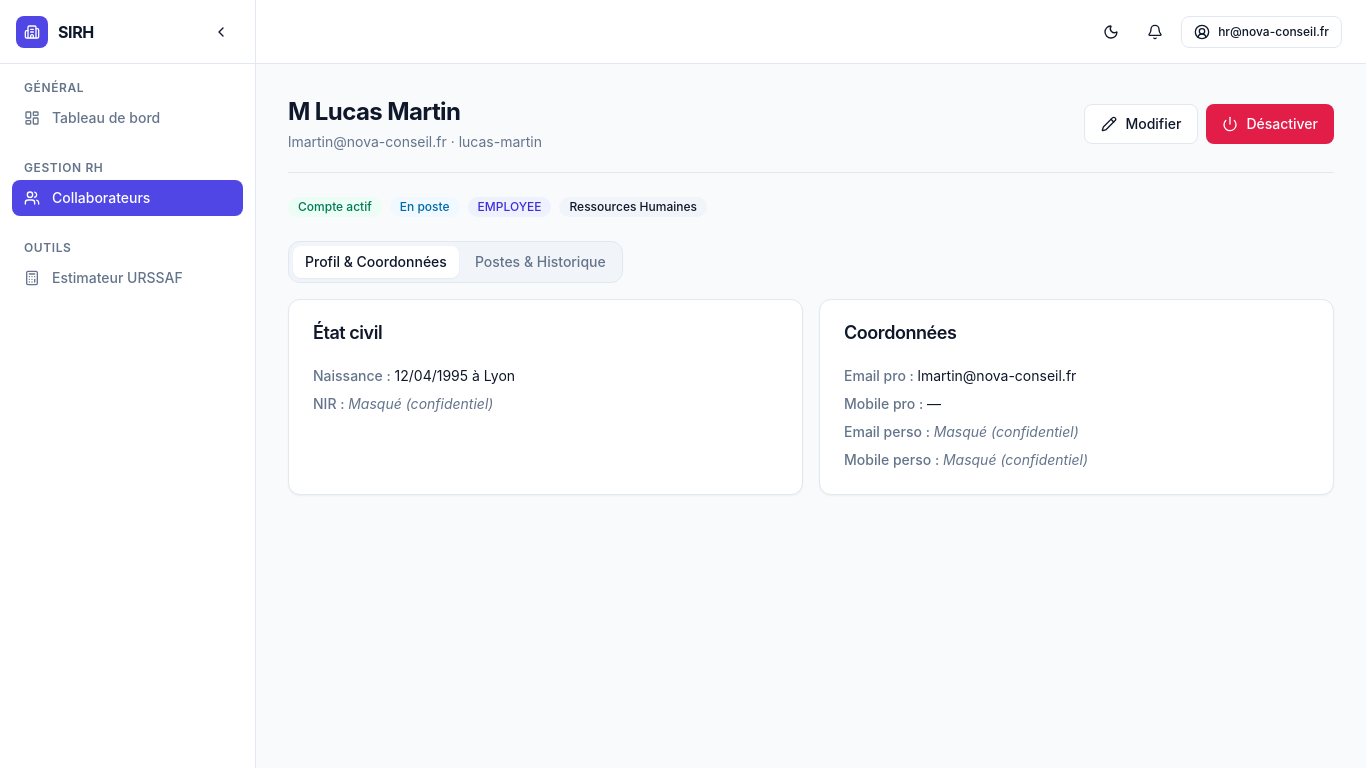
Test: Employees Directory & Lifecycle (US-F013, US-F014, US-F015) › shows masked PII for Manager and allows HR to deactivate employee
This screenshot has width=1366, height=768.
Expected: the heading "M Lucas Martin" is shown, x1=288 y1=97 x2=460 y2=126
Click the button "Désactiver". click: (1270, 124)
box: x1=1206 y1=104 x2=1334 y2=144
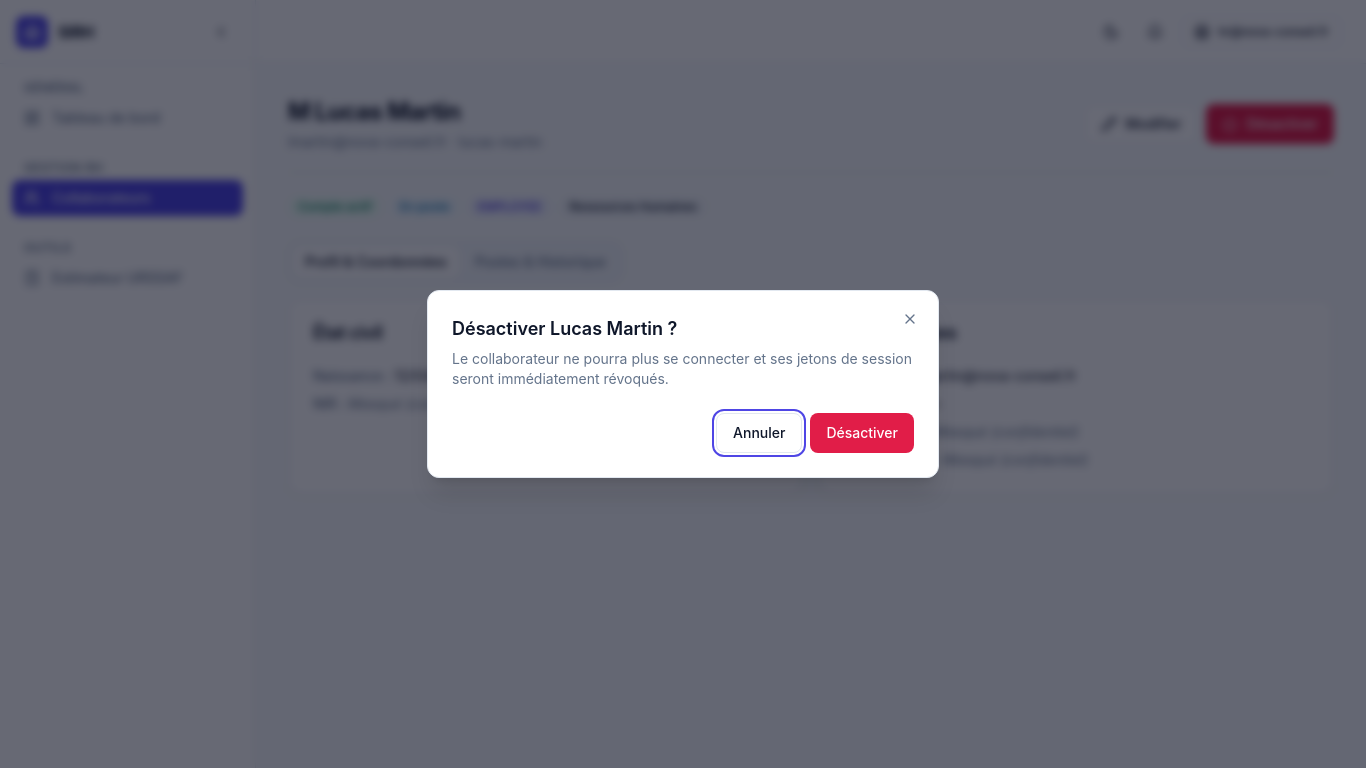
Click the button "Désactiver". click: (862, 433)
box: x1=810 y1=413 x2=914 y2=453
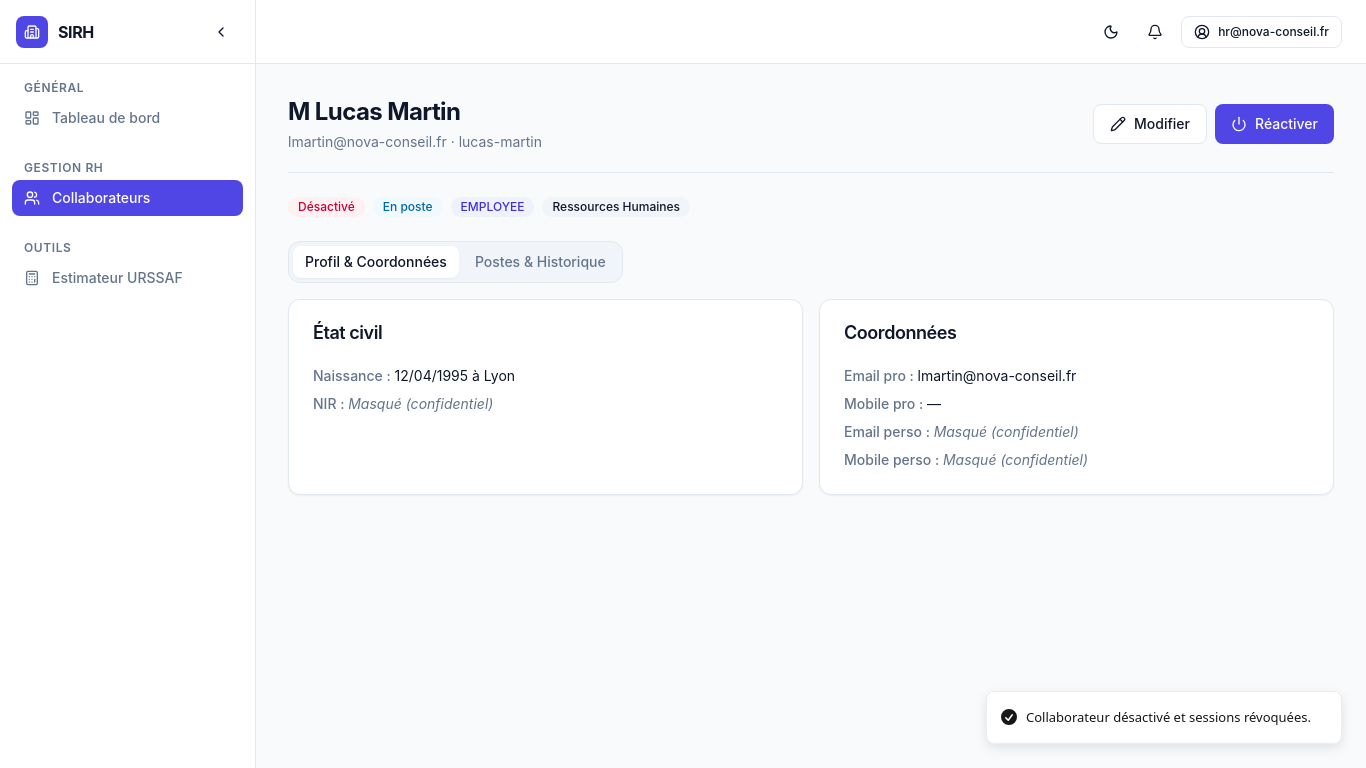
Now the text "Désactivé" is shown, box x1=288 y1=197 x2=365 y2=217
